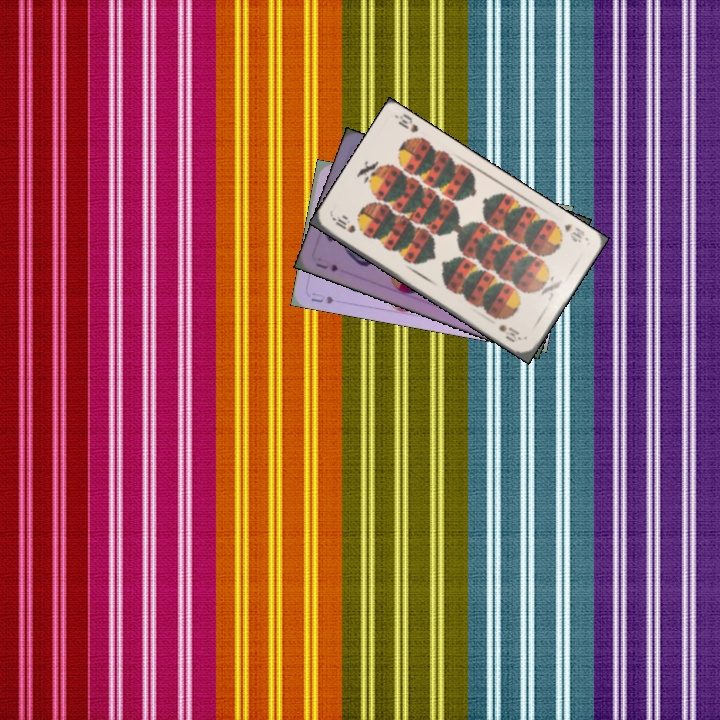S10: (560, 219, 588, 245), (329, 214, 358, 236)
SU: (307, 289, 336, 306), (312, 259, 341, 274)
